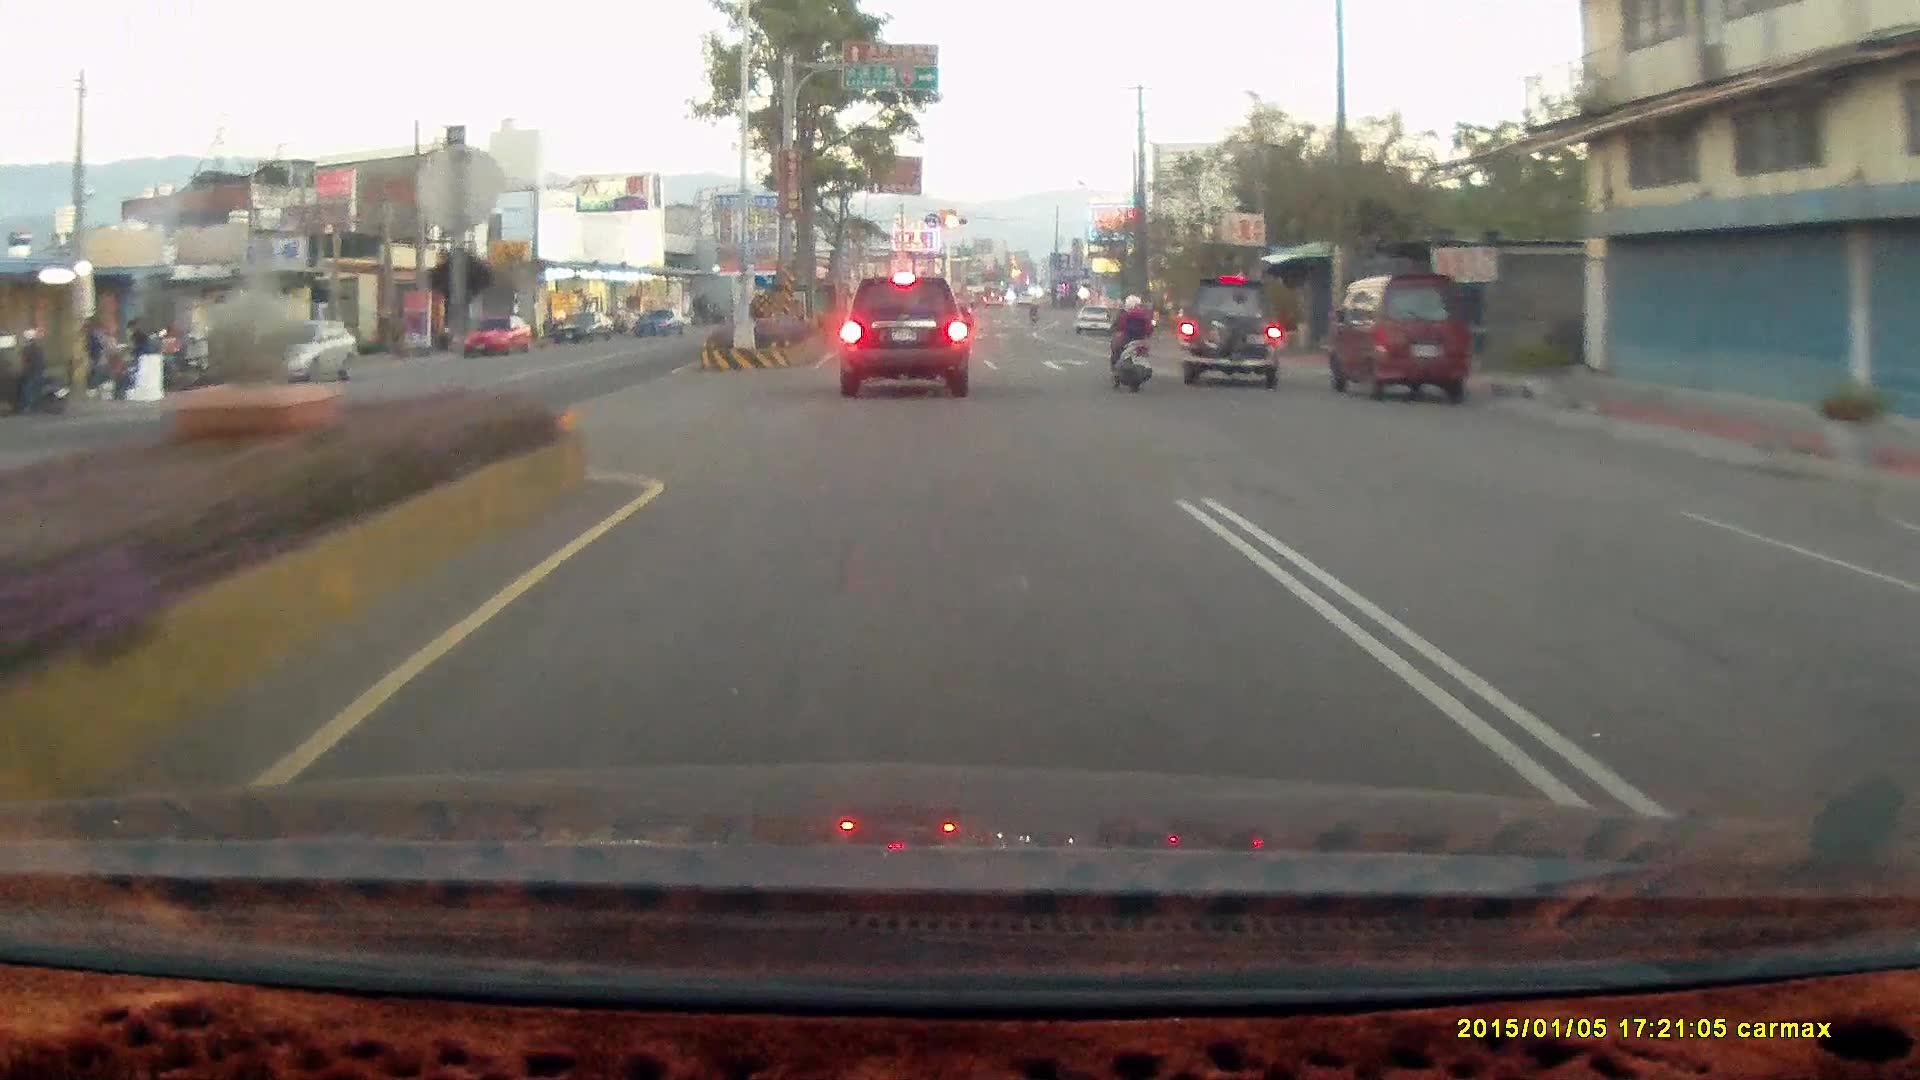pedestrian: (122, 311, 153, 381)
rider: (1107, 292, 1158, 394)
vehicle: (1324, 270, 1470, 402), (1333, 269, 1476, 401), (837, 271, 968, 395), (1177, 267, 1294, 379), (1175, 273, 1280, 384), (1896, 493, 1920, 836), (246, 319, 357, 386), (249, 320, 360, 387), (1883, 528, 1920, 690), (457, 312, 533, 356), (1073, 301, 1113, 332)
